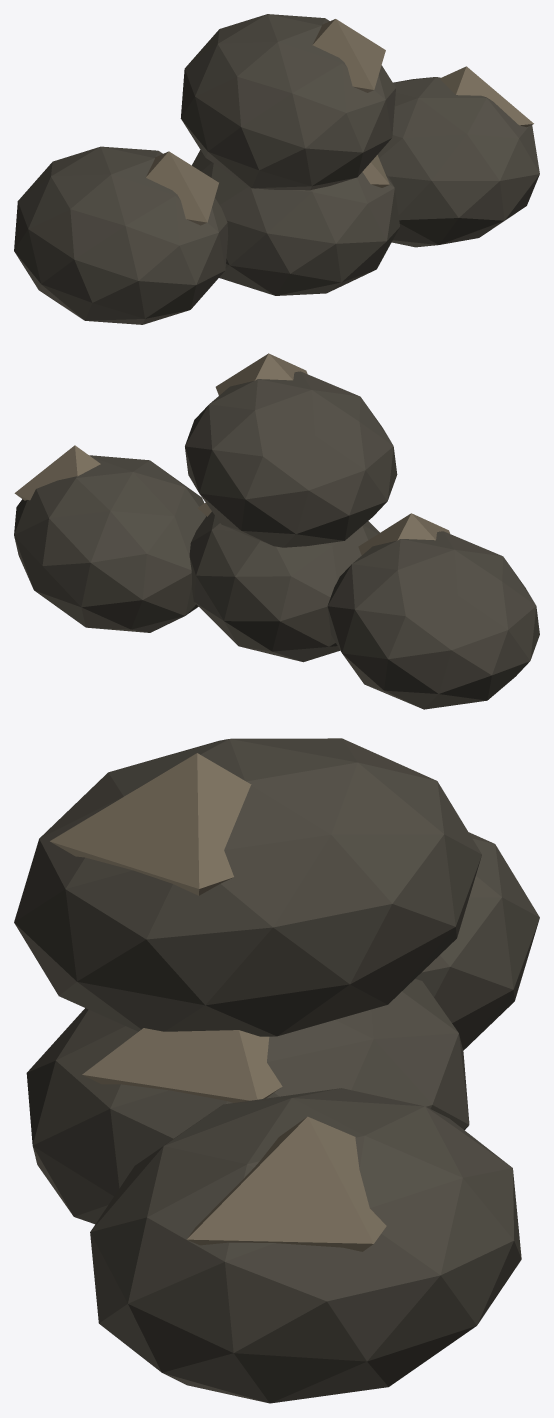
File: pile-stone-4.obj
3 renders of one model, top to bottom at view 1: azimuth 30°, elevation 25°; view 2: azimuth 150°, elevation 25°; view 3: azimuth 270°, elevation 25°, orthographic. The views are drawn at different scales.
Visible parts, largest first — view 1: pile-stone-4; view 2: pile-stone-4; view 3: pile-stone-4.
Boxes of the visible parts, x1=… form: pile-stone-4: x1=14, y1=14, x2=539, y2=324; pile-stone-4: x1=14, y1=353, x2=539, y2=709; pile-stone-4: x1=14, y1=738, x2=539, y2=1403.
Size of the model in its own units: 0.8581 by 0.4439 by 0.4095.
Materials: 1 (1 with a texture image).
